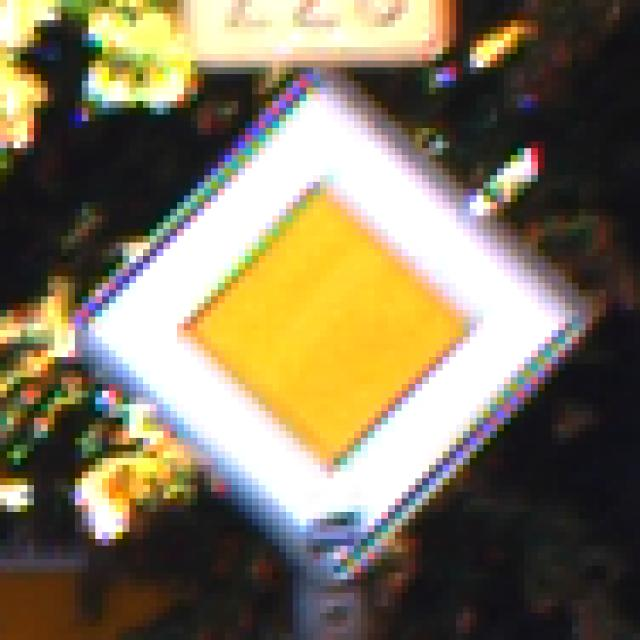Main Road: (56, 62, 587, 587)
